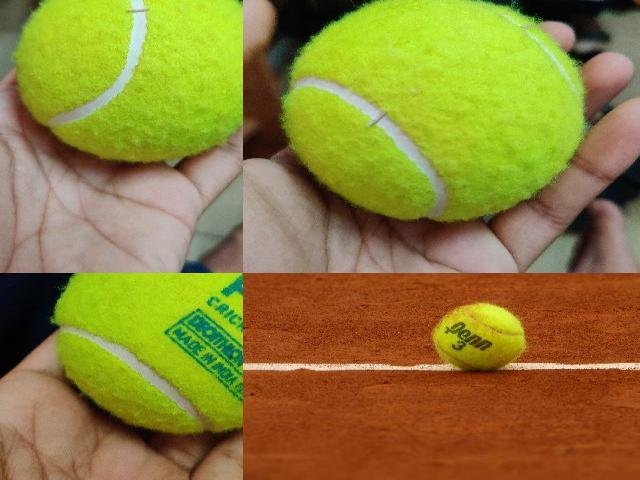tennis-ball: (283, 0, 583, 221), (17, 0, 242, 161), (52, 273, 242, 434), (432, 303, 524, 371)
